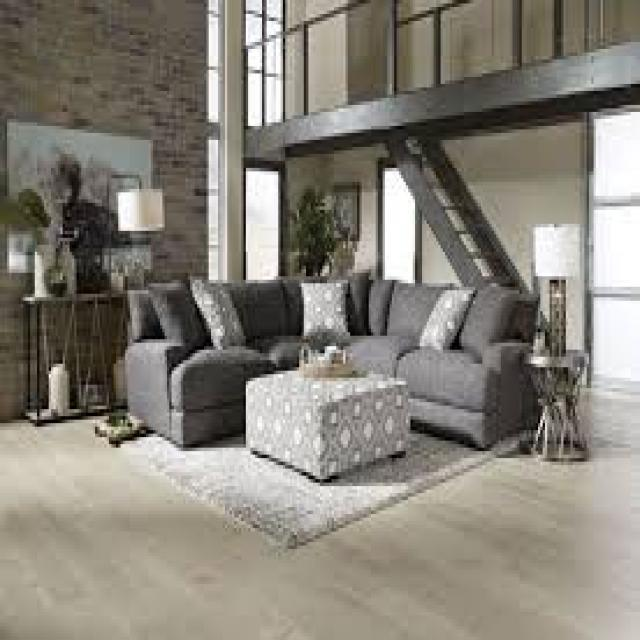Lamp: (531, 220, 582, 356), (114, 182, 164, 288)
Sofa: (120, 262, 540, 464)
Table: (244, 368, 414, 485)
